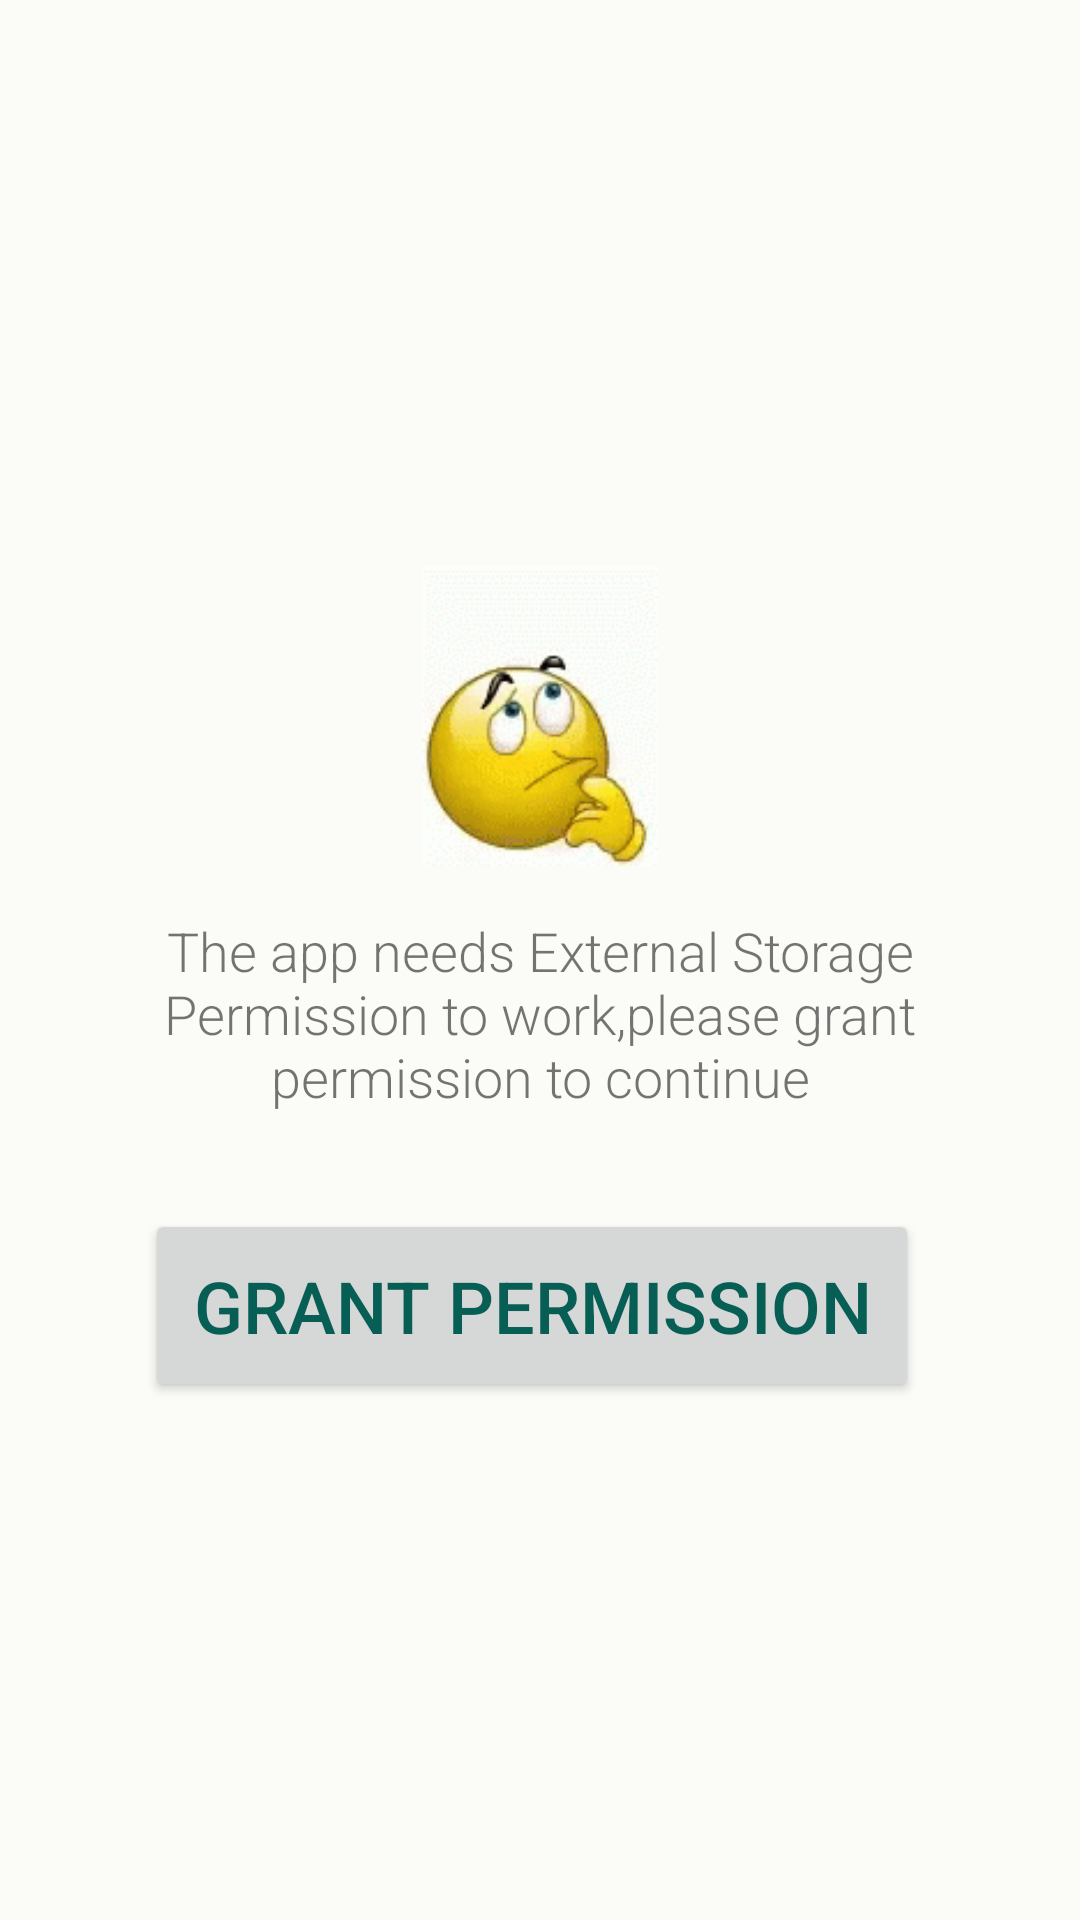

Named icons in this screenshot (1080px×1920px) and their bounding boxes, (x1, y1, x2, y2):
emoji question mark: (422, 655, 649, 866)
